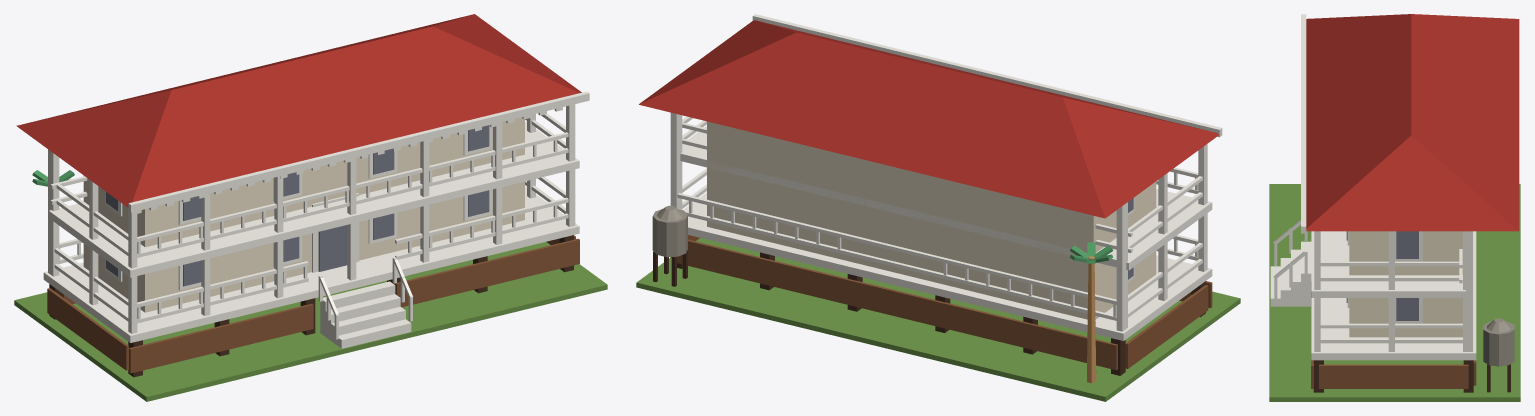
The model's file is house-2x1-2f-queenslander-a.glb.
3 renders of one model, left to right at view 1: azimuth 30°, elevation 25°; view 2: azimuth 150°, elevation 25°; view 3: azimuth 270°, elevation 25°, orthographic. The views are drawn at different scales.
Visible parts, largest first — view 1: house-2x1-2f-queenslander-a; view 2: house-2x1-2f-queenslander-a; view 3: house-2x1-2f-queenslander-a.
Part boxes in pixels (<box>): house-2x1-2f-queenslander-a: <box>14,14,607,401</box>; house-2x1-2f-queenslander-a: <box>636,14,1240,401</box>; house-2x1-2f-queenslander-a: <box>1269,14,1520,401</box>.
Size of the model in its own units: 1.99 by 0.96 by 0.99.
Materials: 1 (1 with a texture image).
